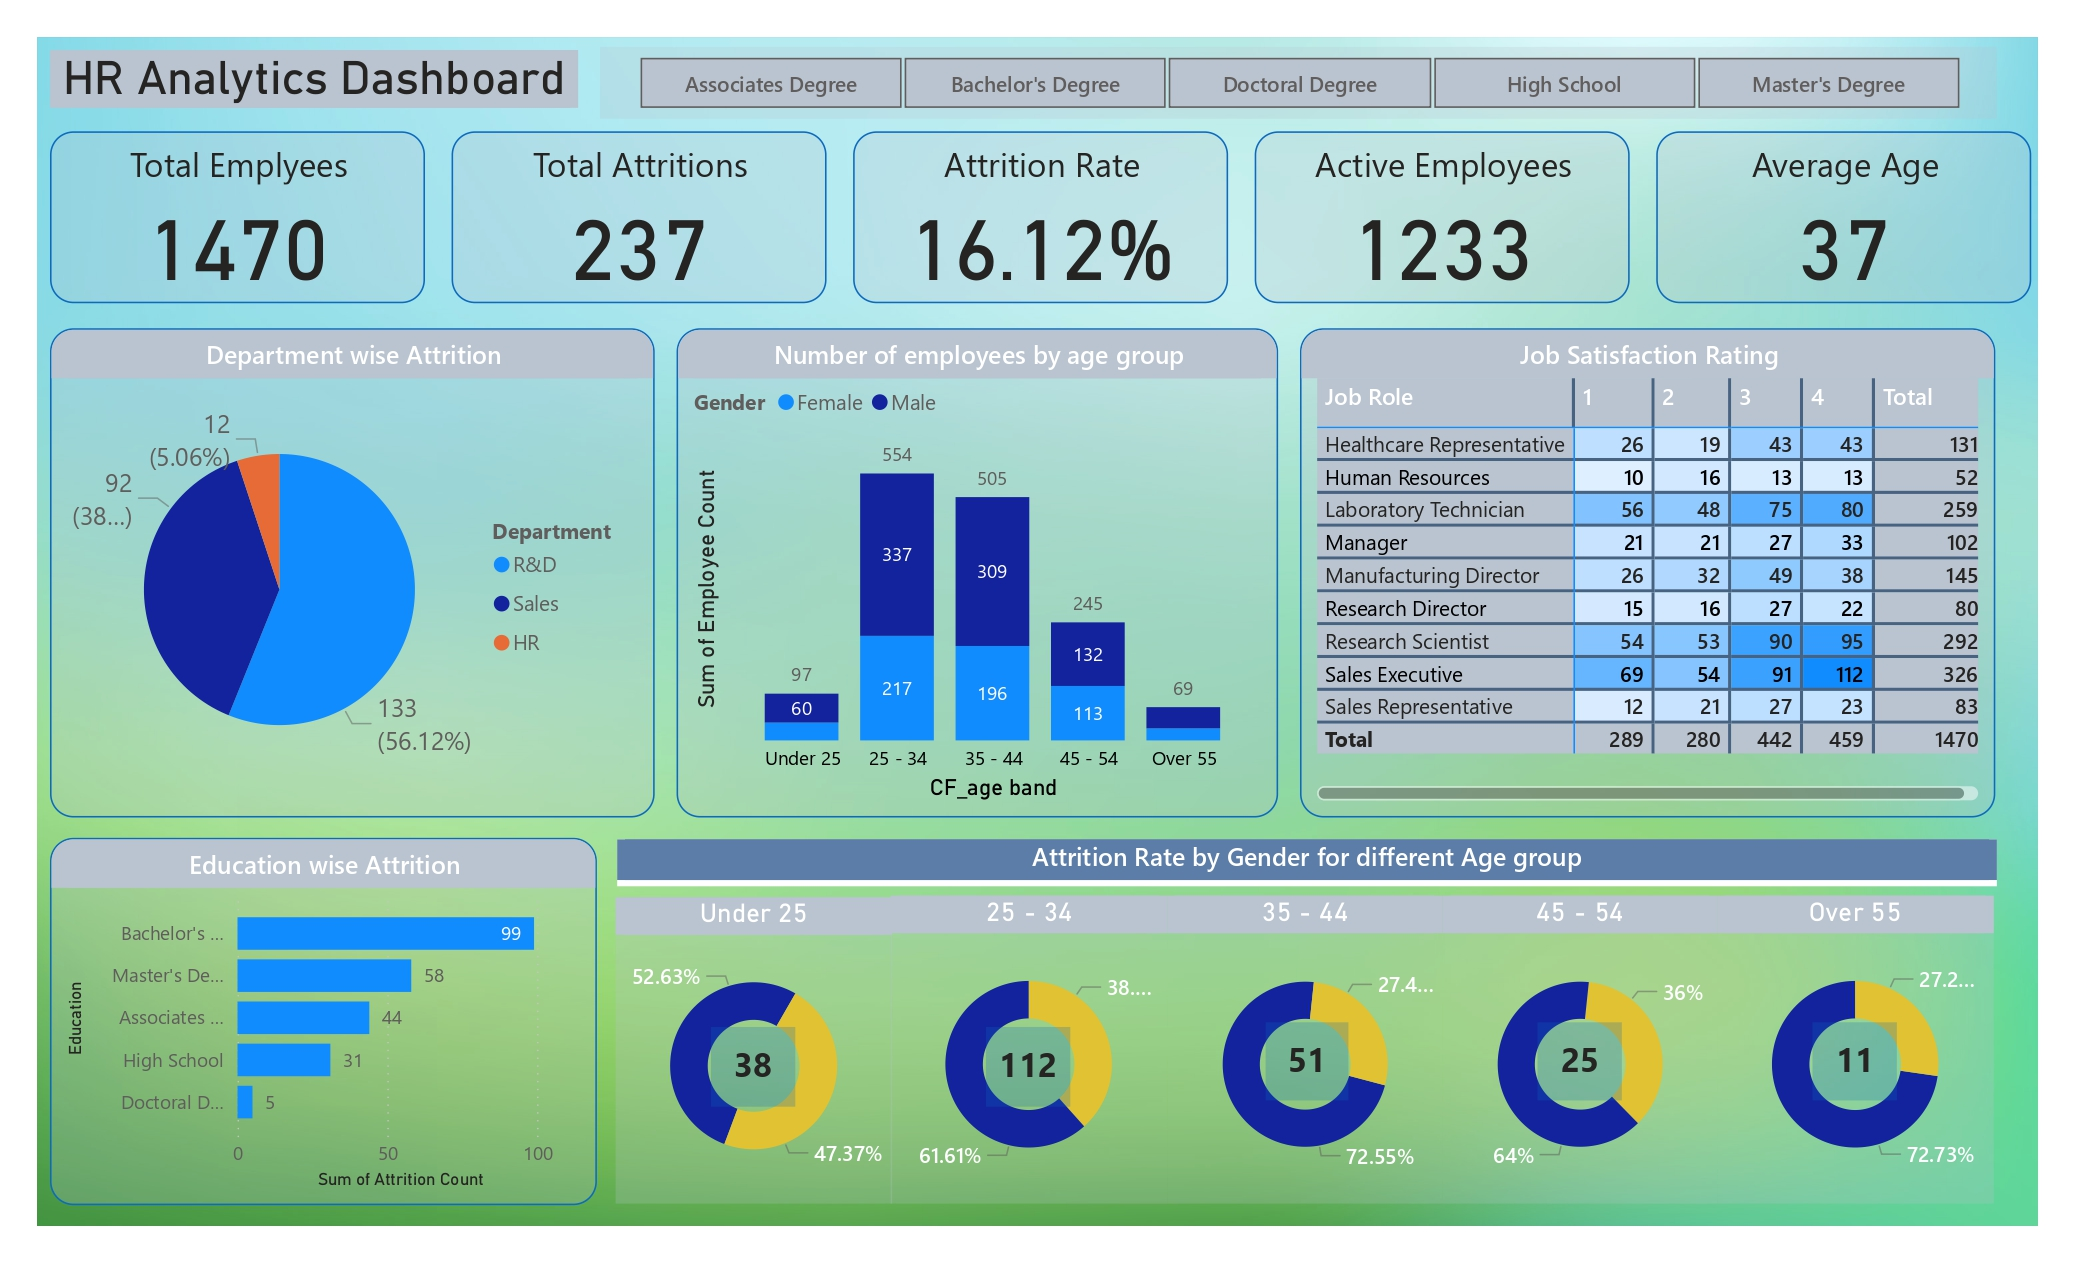

The page's visual inventory and layout, read from the dashboard file:
{"tool":"powerbi","page":{"name":"Page 1","canvas":[1280,760],"ordinal":0},"visuals":[{"type":"card","title":"Total Emplyees","fields":{"Values":["Count(HR Data.emp no)"]},"box":[8,60,240,110],"z":0},{"type":"card","title":"Total Attritions","fields":{"Values":["Sum(HR Data.Attrition Count)"]},"box":[265,60,240,110],"z":1000},{"type":"card","title":"Attrition Rate","fields":{"Values":["HR Data.Attrition Rate"]},"box":[522,60,240,110],"z":2000},{"type":"card","title":"Active Employees","fields":{"Values":["HR Data.Active Employees"]},"box":[779,60,240,110],"z":3000},{"type":"card","title":"Average Age","fields":{"Values":["Avg(HR Data.Age)"]},"box":[1036,60,240,110],"z":4000},{"type":"pieChart","title":"Department wise Attrition","fields":{"Category":["HR Data.Department"],"Y":["Sum(HR Data.Attrition Count)"]},"box":[8.3,185.7,386.7,313.3],"z":5000},{"type":"columnChart","title":"Number of employees by age group","fields":{"Category":["HR Data.CF_age band"],"Y":["Sum(HR Data.Employee Count)"],"Series":["HR Data.Gender"]},"box":[409.2,185.7,385,313.3],"z":6000},{"type":"pivotTable","title":"Job Satisfaction Rating","fields":{"Columns":["HR Data.Job Satisfaction"],"Rows":["HR Data.Job Role"],"Values":["Sum(HR Data.Employee Count)"]},"box":[808.3,185.7,445,313.3],"z":7000},{"type":"barChart","title":"Education wise Attrition","fields":{"Category":["HR Data.Education"],"Y":["Sum(HR Data.Attrition Count)"]},"box":[8.3,512.3,350,235],"z":8000},{"type":"donutChart","title":"Under 25","fields":{"Category":["HR Data.Gender"],"Y":["Sum(HR Data.Attrition Count)"],"Series":["HR Data.CF_age band"]},"box":[370,549.6,176.7,196.7],"z":9000},{"type":"textbox","title":"Attrition Rate by Gender for different Age group","box":[371.4,512.6,882.9,30],"z":10000},{"type":"donutChart","title":"25 - 34","fields":{"Category":["HR Data.Gender"],"Y":["Sum(HR Data.Attrition Count)"],"Series":["HR Data.CF_age band"]},"box":[546.3,549,176.7,196.7],"z":11000},{"type":"donutChart","title":"35 - 44","fields":{"Category":["HR Data.Gender"],"Y":["Sum(HR Data.Attrition Count)"],"Series":["HR Data.CF_age band"]},"box":[722.5,549,176.7,196.7],"z":12000},{"type":"donutChart","title":"45 - 54","fields":{"Category":["HR Data.Gender"],"Y":["Sum(HR Data.Attrition Count)"],"Series":["HR Data.CF_age band"]},"box":[898.8,549,176.7,196.7],"z":13000},{"type":"donutChart","title":"Over 55","fields":{"Category":["HR Data.Gender"],"Y":["Sum(HR Data.Attrition Count)"],"Series":["HR Data.CF_age band"]},"box":[1075,549,176.7,196.7],"z":14000},{"type":"card","fields":{"Values":["Sum(HR Data.Attrition Count)"]},"box":[431.4,633.3,53.6,50.7],"z":15000},{"type":"card","fields":{"Values":["Sum(HR Data.Attrition Count)"]},"box":[607.1,633.3,53.6,50.7],"z":16000},{"type":"card","fields":{"Values":["Sum(HR Data.Attrition Count)"]},"box":[785.7,629.7,53.6,50.7],"z":17000},{"type":"card","fields":{"Values":["Sum(HR Data.Attrition Count)"]},"box":[960,629.7,53.6,50.7],"z":18000},{"type":"card","fields":{"Values":["Sum(HR Data.Attrition Count)"]},"box":[1136.4,629.7,53.6,50.7],"z":19000},{"type":"textbox","title":"HR Analytics Dashboard","box":[7.5,7.5,338.8,37.5],"z":20000},{"type":"slicer","fields":{"Values":["HR Data.Education"]},"box":[360,6,894,46],"z":21000}]}

Visuals, with their boxes on the page's 1280x760 design canvas (x1, y1, x2, y2). These are canvas units, not pixel positions in the 2075x1263 screenshot, which may show the page scaled, cropped or inside an application window:
"Total Emplyees" card: {"left": 8, "top": 60, "right": 248, "bottom": 170}
"Total Attritions" card: {"left": 265, "top": 60, "right": 505, "bottom": 170}
"Attrition Rate" card: {"left": 522, "top": 60, "right": 762, "bottom": 170}
"Active Employees" card: {"left": 779, "top": 60, "right": 1019, "bottom": 170}
"Average Age" card: {"left": 1036, "top": 60, "right": 1276, "bottom": 170}
"Department wise Attrition" pieChart: {"left": 8, "top": 186, "right": 395, "bottom": 499}
"Number of employees by age group" columnChart: {"left": 409, "top": 186, "right": 794, "bottom": 499}
"Job Satisfaction Rating" pivotTable: {"left": 808, "top": 186, "right": 1253, "bottom": 499}
"Education wise Attrition" barChart: {"left": 8, "top": 512, "right": 358, "bottom": 747}
"Under 25" donutChart: {"left": 370, "top": 550, "right": 547, "bottom": 746}
"Attrition Rate by Gender for different Age group" textbox: {"left": 371, "top": 513, "right": 1254, "bottom": 543}
"25 - 34" donutChart: {"left": 546, "top": 549, "right": 723, "bottom": 746}
"35 - 44" donutChart: {"left": 722, "top": 549, "right": 899, "bottom": 746}
"45 - 54" donutChart: {"left": 899, "top": 549, "right": 1076, "bottom": 746}
"Over 55" donutChart: {"left": 1075, "top": 549, "right": 1252, "bottom": 746}
card - Sum(HR Data.Attrition Count): {"left": 431, "top": 633, "right": 485, "bottom": 684}
card - Sum(HR Data.Attrition Count): {"left": 607, "top": 633, "right": 661, "bottom": 684}
card - Sum(HR Data.Attrition Count): {"left": 786, "top": 630, "right": 839, "bottom": 680}
card - Sum(HR Data.Attrition Count): {"left": 960, "top": 630, "right": 1014, "bottom": 680}
card - Sum(HR Data.Attrition Count): {"left": 1136, "top": 630, "right": 1190, "bottom": 680}
"HR Analytics Dashboard" textbox: {"left": 8, "top": 8, "right": 346, "bottom": 45}
slicer - HR Data.Education: {"left": 360, "top": 6, "right": 1254, "bottom": 52}
